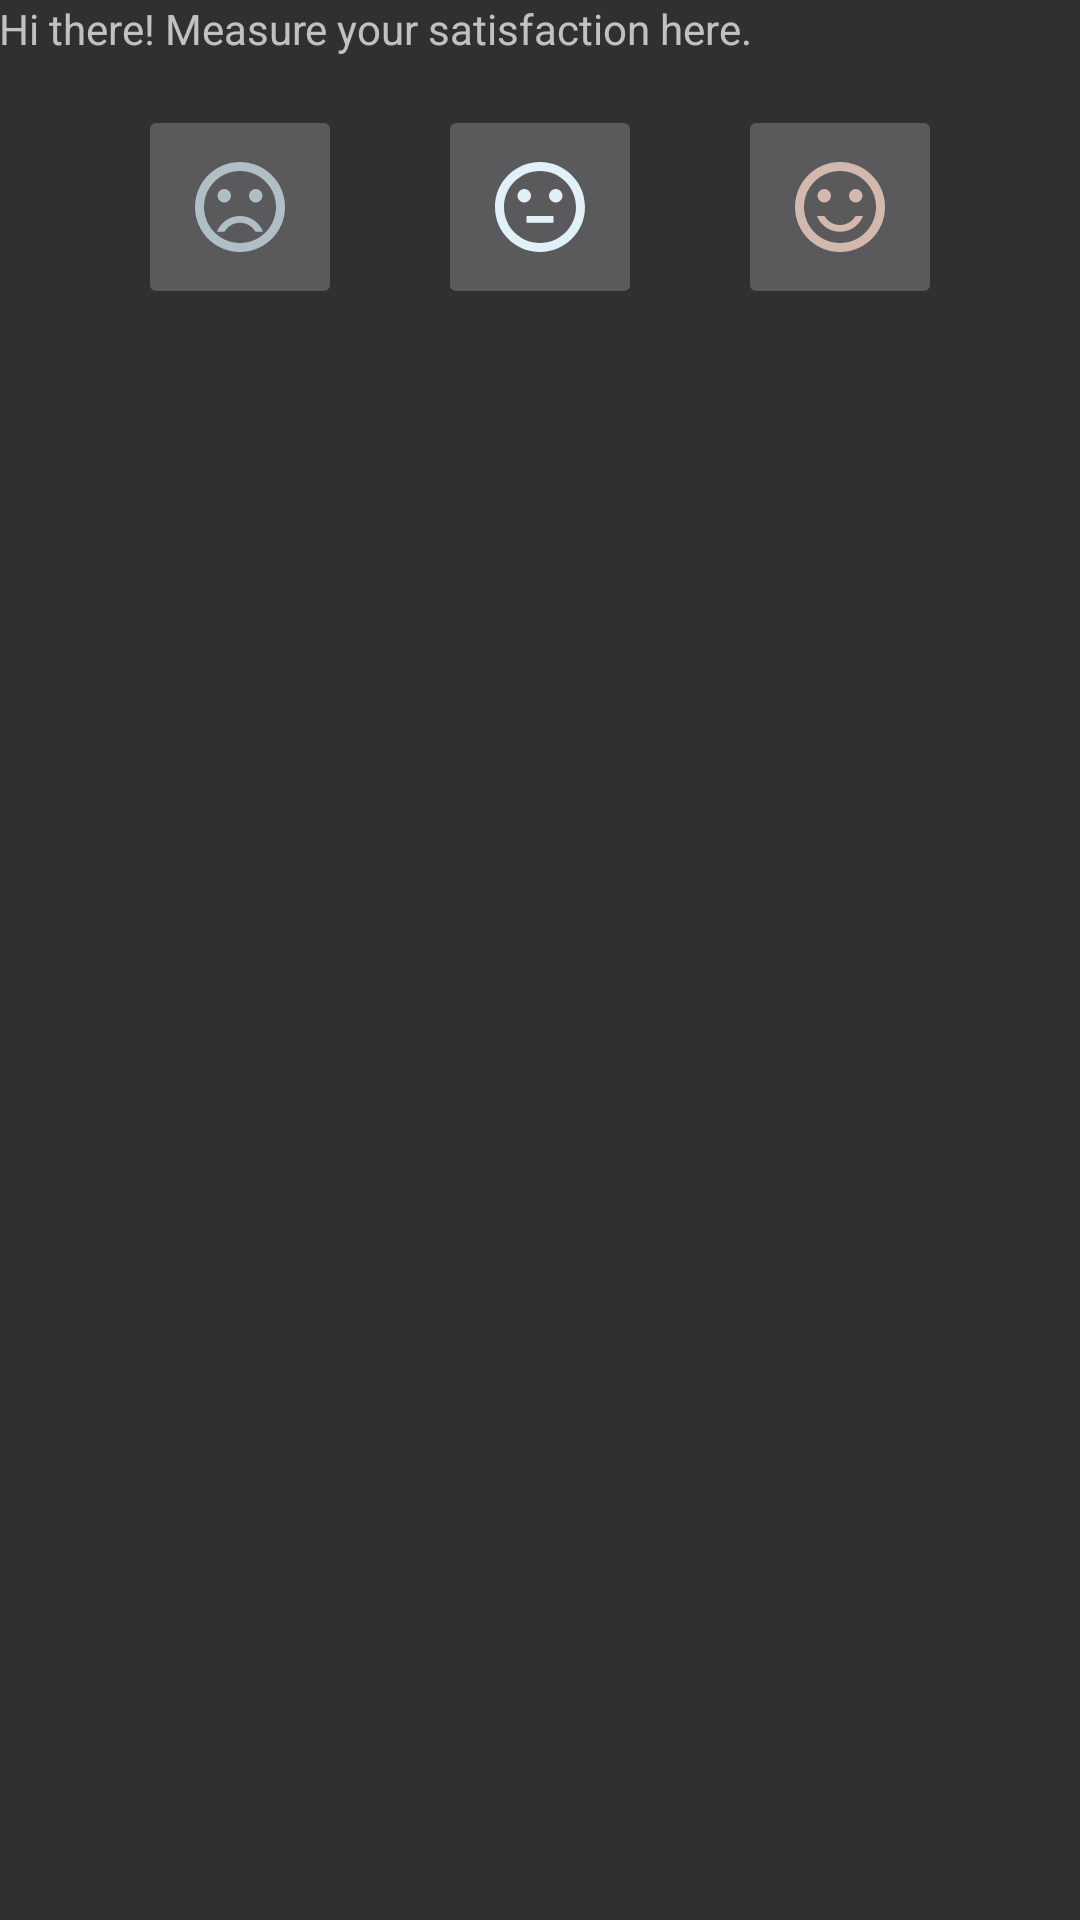

Named icons in this screenshot (1080px×1920px) and their bounding boxes, (x1, y1, x2, y2):
Dissatisfied: (150, 123, 330, 291)
Neutral: (450, 123, 630, 291)
Satisfied: (750, 123, 930, 291)
